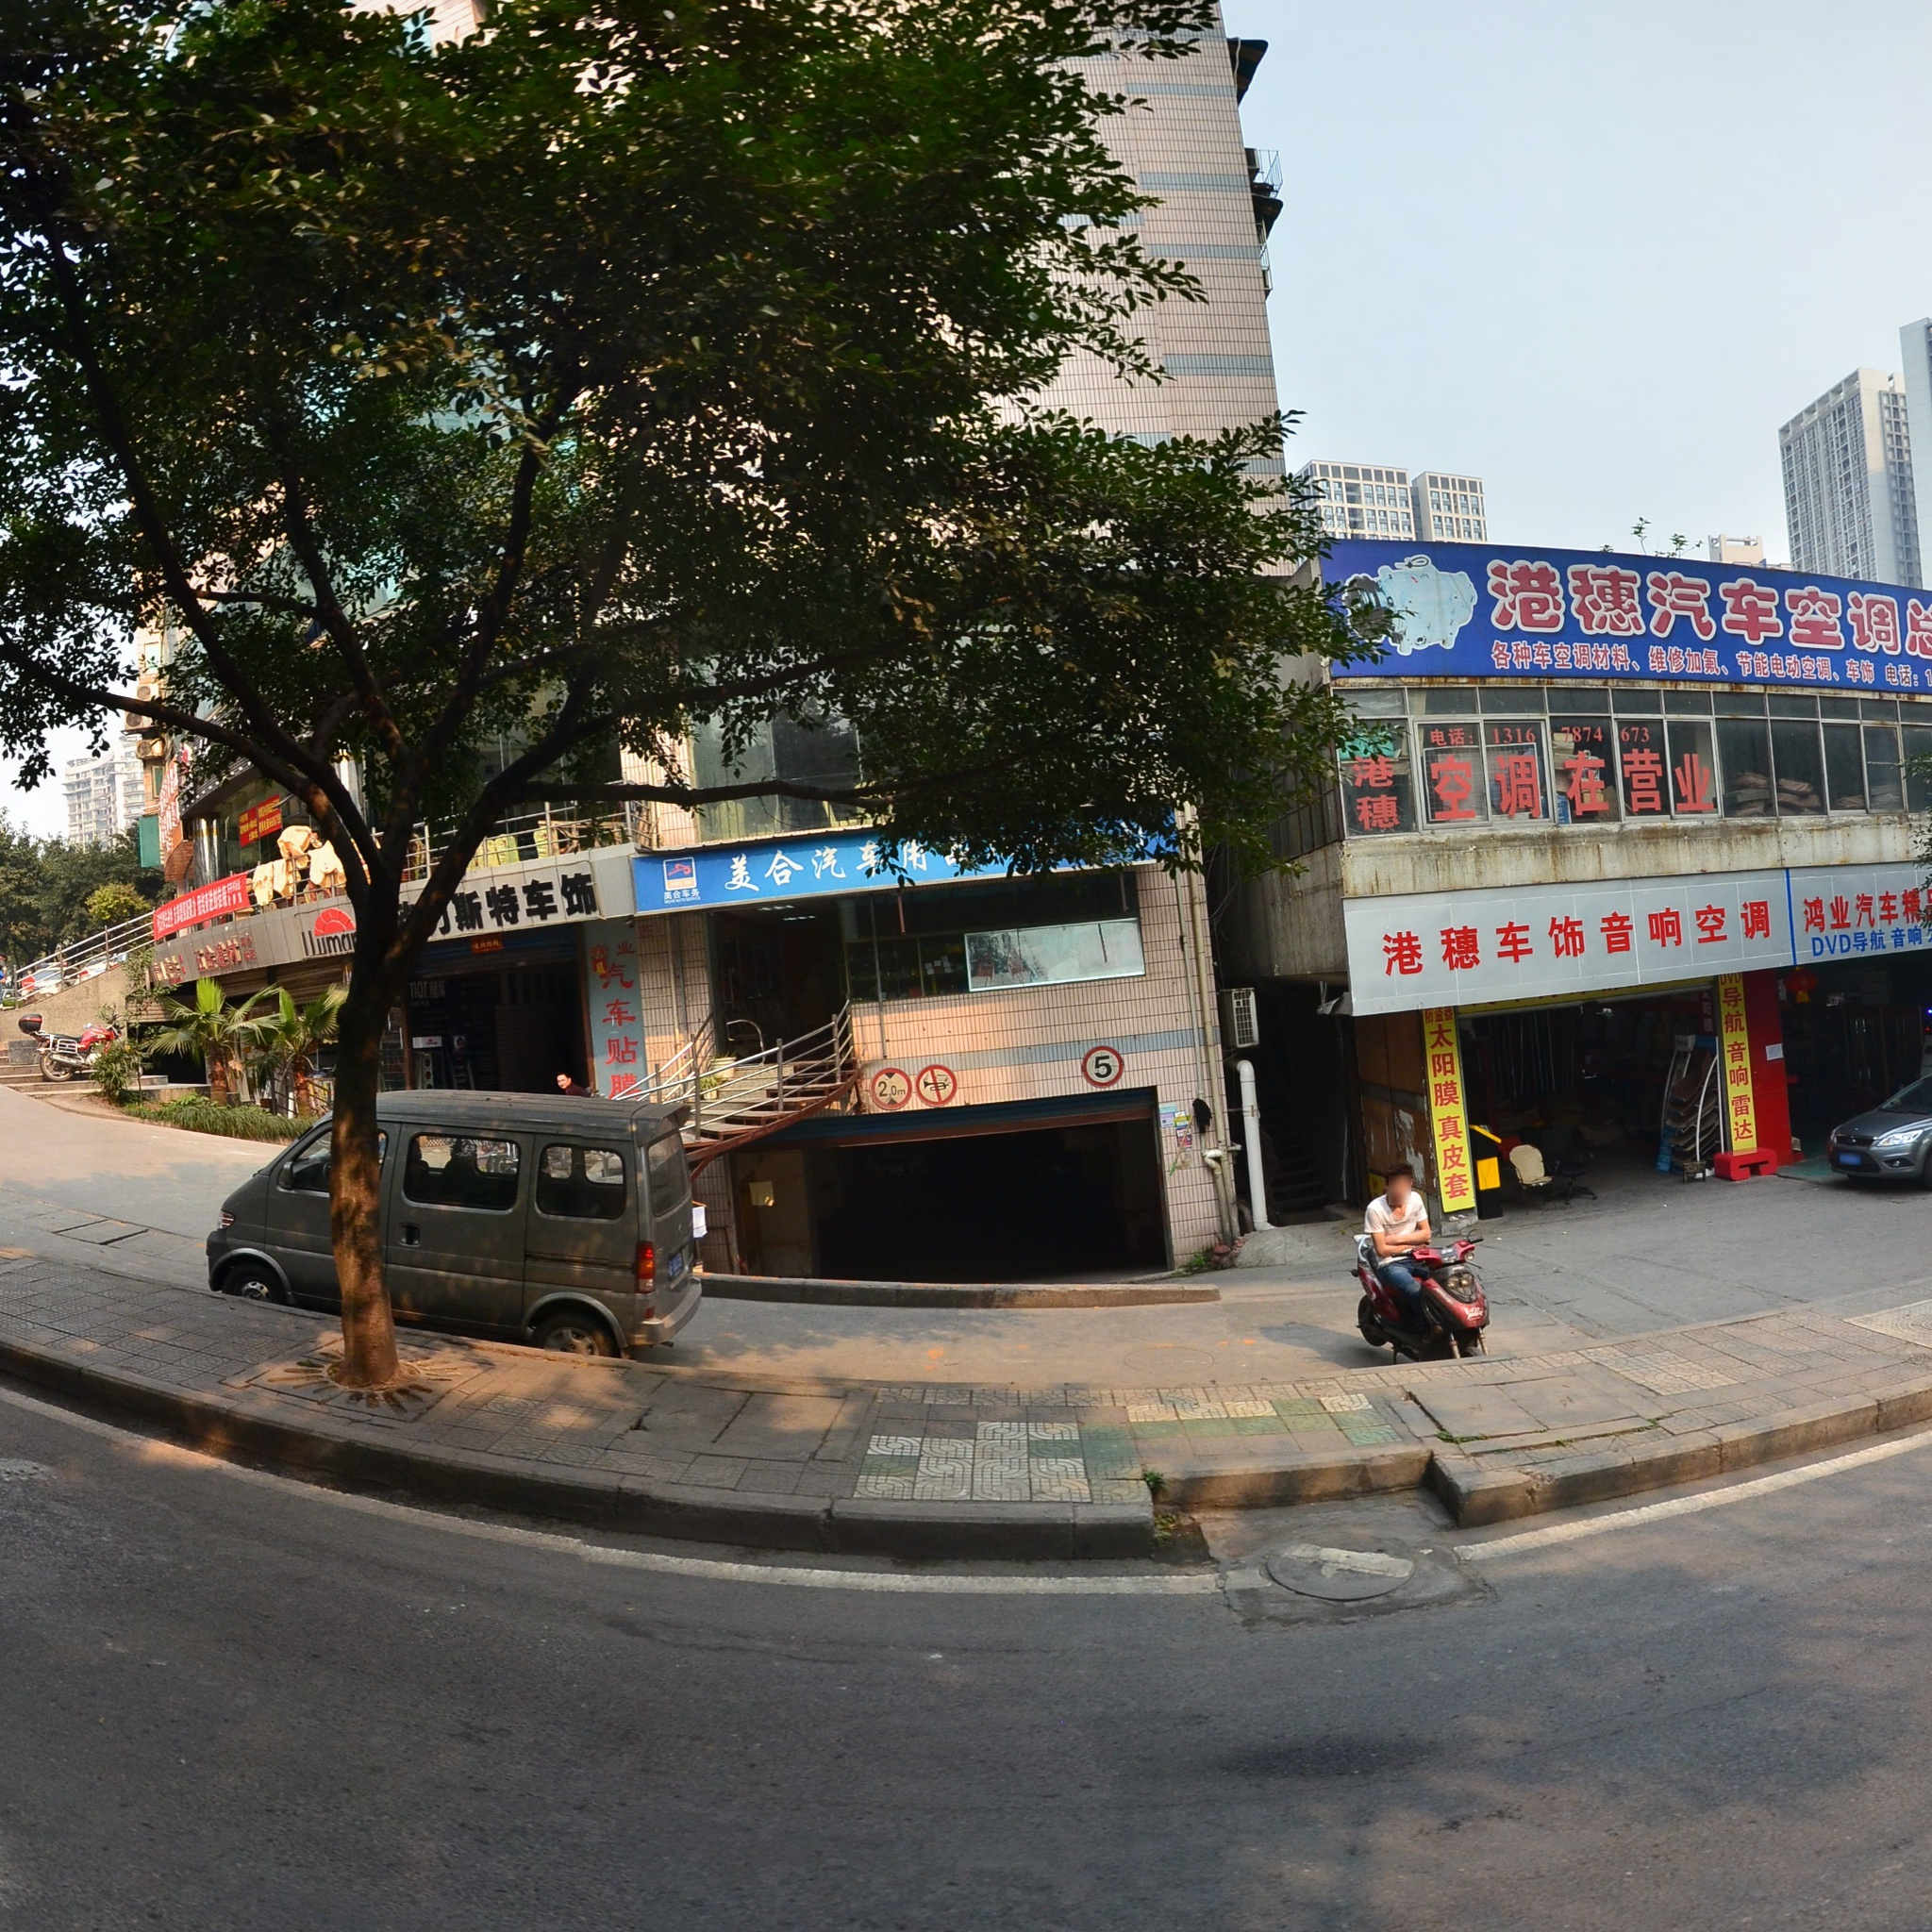p11: (915, 1063, 955, 1104)
ph2: (872, 1069, 911, 1111)
pl5: (1081, 1046, 1123, 1085)
